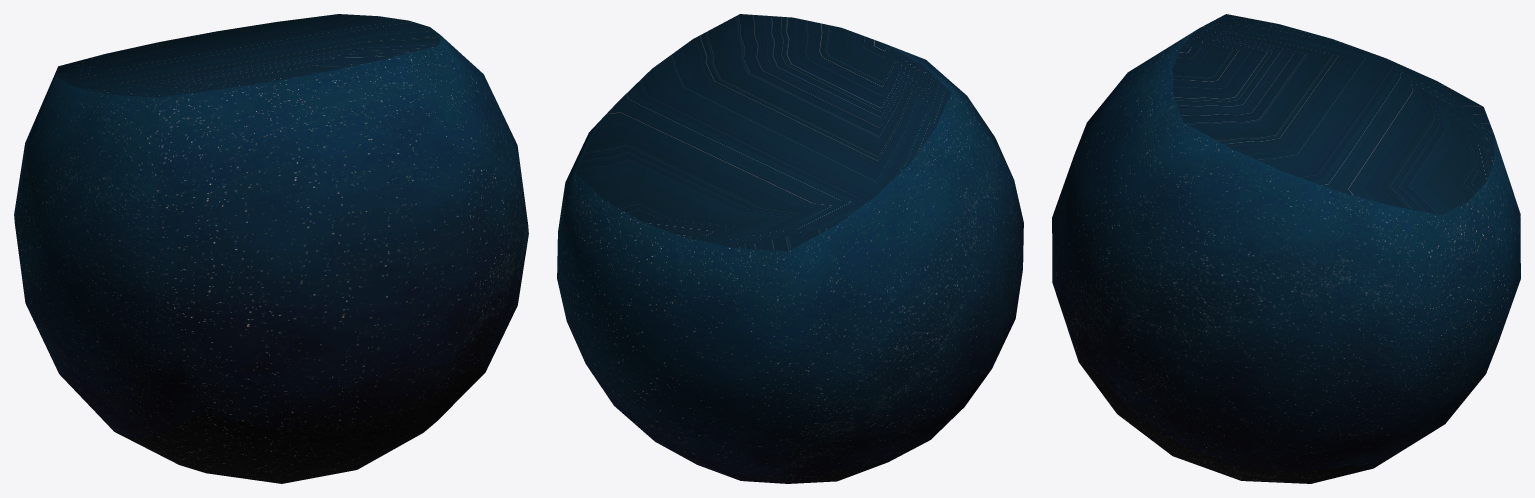
The model's file is skysphere.dae.
3 views of the same model, side by side, from view 1: azimuth 30°, elevation 25°; view 2: azimuth 150°, elevation 25°; view 3: azimuth 270°, elevation 25° (orthographic). The views are drawn at different scales.
Visible parts, largest first — view 1: skyDome; view 2: skyDome; view 3: skyDome.
Part boxes in pixels (left/top/right/bottom): skyDome: left=14, top=14, right=528, bottom=483; skyDome: left=557, top=14, right=1023, bottom=483; skyDome: left=1052, top=14, right=1520, bottom=483.
Size of the model in its own units: 321 by 320 by 296.
